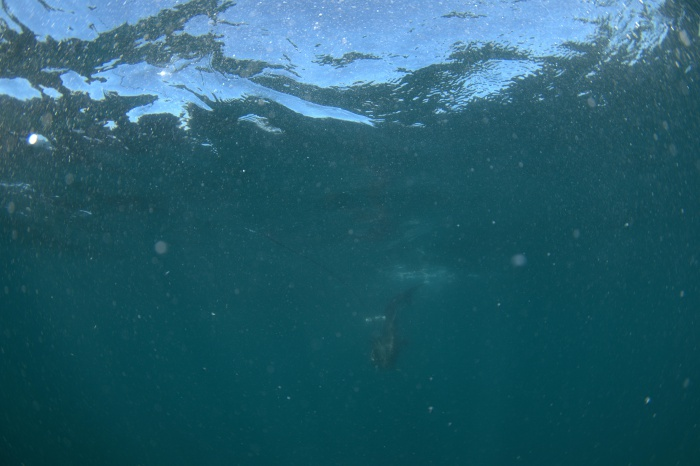Mako: (360, 273, 423, 381)
